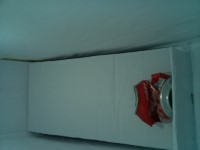kaleng: (132, 72, 173, 126)
